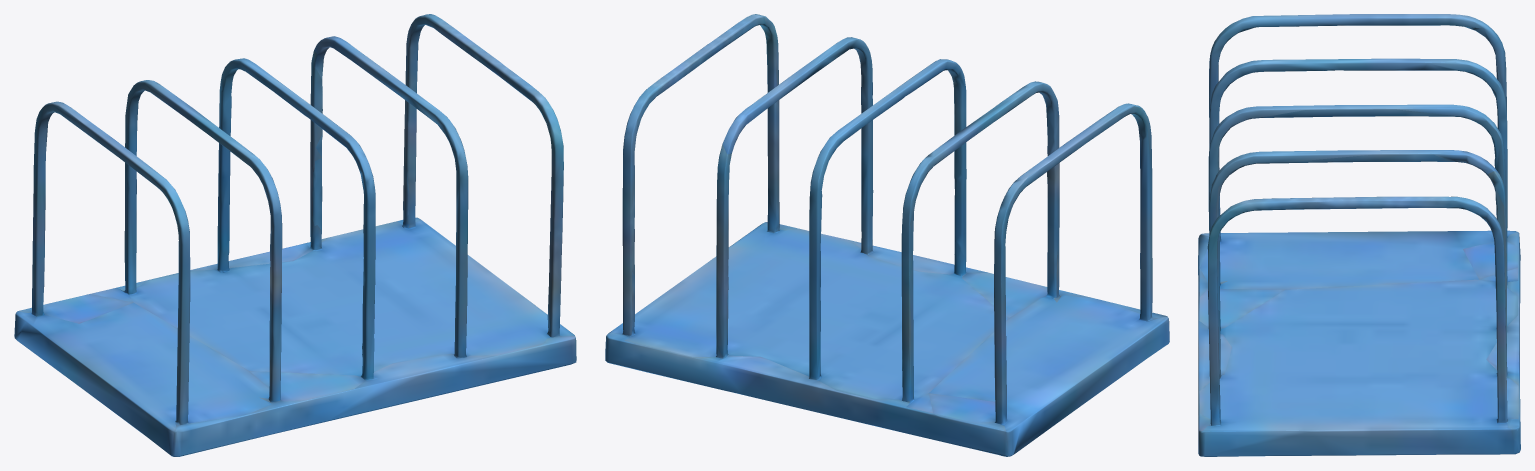
File: Poppin_File_Sorter_Blue-high.glb
3 views of the same model, side by side, from view 1: azimuth 30°, elevation 25°; view 2: azimuth 150°, elevation 25°; view 3: azimuth 270°, elevation 25° (orthographic).
Parts seen in each view (by area): view 1: Poppin_File_Sorter_Blue; view 2: Poppin_File_Sorter_Blue; view 3: Poppin_File_Sorter_Blue.
Boxes of the visible parts, bbox=[...] form: Poppin_File_Sorter_Blue: bbox=[14, 14, 576, 456]; Poppin_File_Sorter_Blue: bbox=[605, 14, 1169, 456]; Poppin_File_Sorter_Blue: bbox=[1198, 14, 1520, 456].
Size of the model in its own units: 0.2503 by 0.1535 by 0.1737.
1 material, 1 textured.
